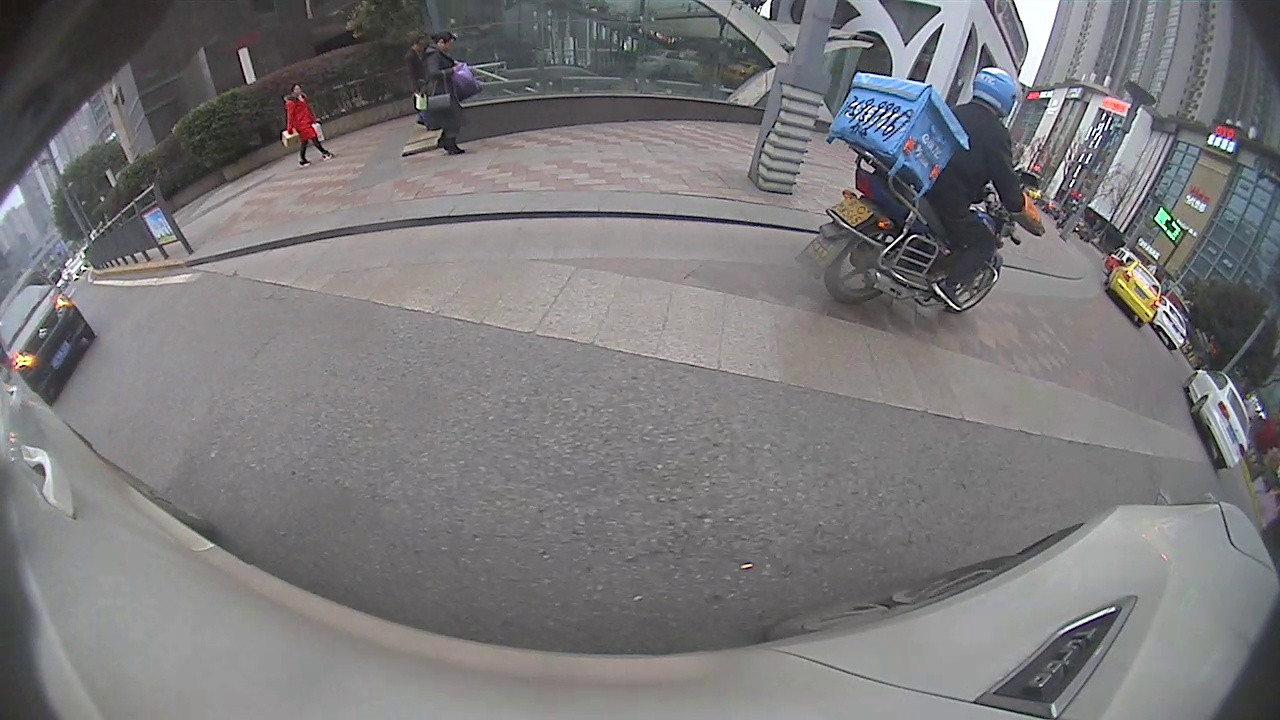car: (1, 265, 98, 407), (1183, 370, 1251, 471), (1103, 257, 1163, 325)
person: (424, 28, 457, 153), (283, 83, 312, 167)
rear: (825, 224, 883, 304)
rider: (796, 65, 1045, 316)
